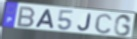5: (57, 9, 75, 31)
A: (34, 9, 55, 30)
B: (16, 6, 37, 28)
C: (93, 13, 113, 35)
G: (113, 14, 133, 38)
J: (77, 12, 93, 32)
